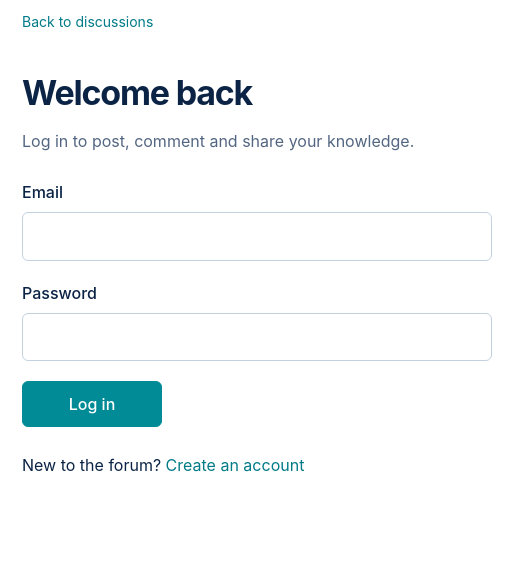
Test: Authentication form behaviour › Given invalid credentials, Then show an error and preserve the form
In the field labelled "Email": {"x": 257, "y": 236} [22,212,492,261], type "partner@example.test"
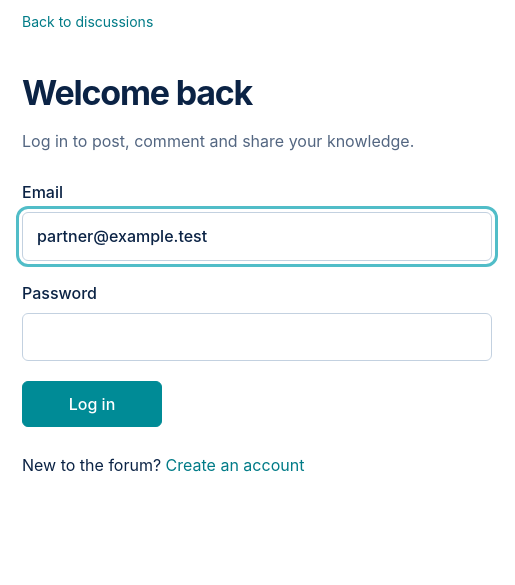
In the password field labelled "Password": {"x": 257, "y": 337} [22,313,492,362], type "WrongPassword!"
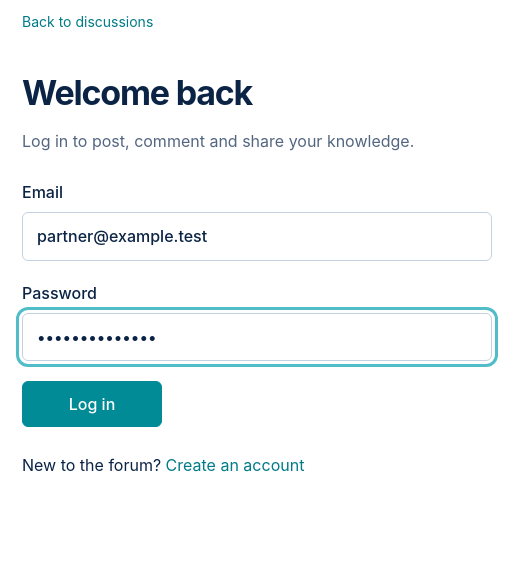
Click the button "Log in": {"x": 92, "y": 404} [22,382,162,428]
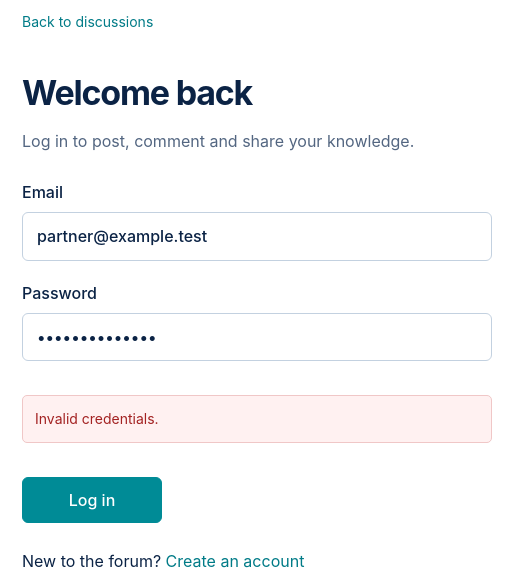
Expected: the button "Log in" is enabled, [22,477,162,523]
Expected: the message reads "Invalid credentials.", [35,410,159,428]
